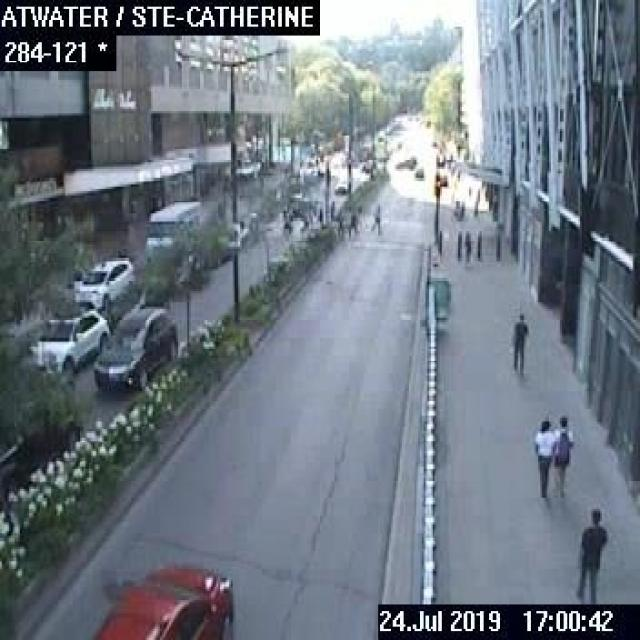pedestrian: (575, 507, 607, 602), (532, 414, 554, 496), (552, 414, 572, 496), (509, 311, 528, 375), (369, 202, 382, 234), (345, 211, 360, 236), (462, 229, 471, 269), (327, 198, 335, 218), (586, 602, 588, 604)
vehicle: (87, 564, 233, 638), (0, 405, 80, 491), (92, 305, 175, 387), (25, 307, 108, 373), (140, 200, 202, 251), (72, 258, 134, 306), (333, 179, 347, 193), (413, 165, 424, 178)
